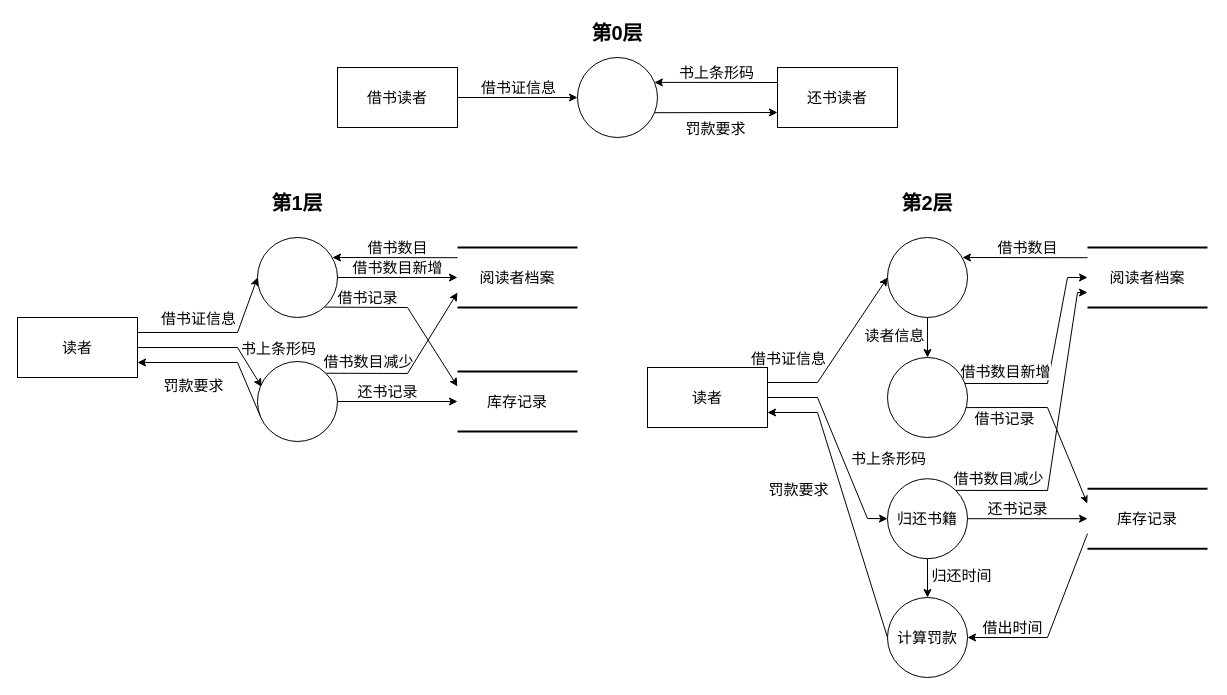
Some shapes in this 1227 by 695 pixel diagram are drawn without their labels. Here are the shapes that lost their labels. From the top down, the box of each, then its label:
(576, 56, 658, 138): 图书馆 借阅系统
(256, 236, 338, 318): 借书
(886, 236, 968, 318): 权限验证
(256, 360, 338, 442): 还书
(886, 356, 968, 438): 办理 借阅手续
